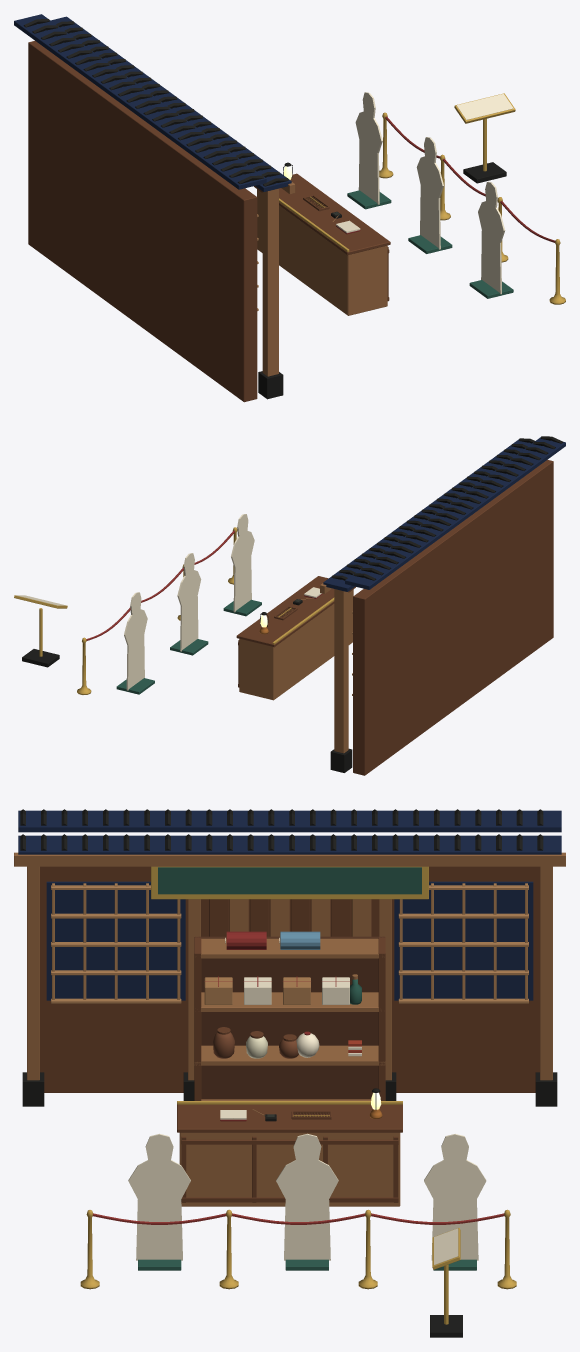
Rendered from S2_shop.glb.
3 views of the same model, one above another, from view 1: azimuth 30°, elevation 25°; view 2: azimuth 150°, elevation 25°; view 3: azimuth 270°, elevation 25° (orthographic). The views are drawn at different scales.
Parts seen in each view (by area): view 1: S2_1_static, INT_counter, SIGN_customer_02, SIGN_customer_01, SIGN_customer_03, S2_9_static, S2_8_static, S2_10_static, SIGN_label_shop; view 2: S2_1_static, INT_counter, SIGN_customer_02, SIGN_customer_01, SIGN_customer_03, S2_8_static, S2_9_static, S2_10_static; view 3: S2_1_static, Shop_three_tier_shelf, INT_counter, SIGN_shopName, S2_4_static, SIGN_customer_02, SIGN_customer_01, SIGN_customer_03, S2_9_static, S2_8_static, S2_10_static, SIGN_label_shop.
Boxes of the visible parts, <box> form: S2_1_static: <box>14,14,295,402</box>; INT_counter: <box>254,173,390,315</box>; SIGN_customer_02: <box>416,137,443,249</box>; SIGN_customer_01: <box>478,181,505,294</box>; SIGN_customer_03: <box>355,92,382,204</box>; S2_9_static: <box>379,112,565,304</box>; S2_8_static: <box>347,190,513,298</box>; S2_10_static: <box>454,93,515,183</box>; SIGN_label_shop: <box>456,94,513,119</box>; S2_1_static: <box>320,436,565,775</box>; INT_counter: <box>236,576,355,700</box>; SIGN_customer_02: <box>177,553,201,651</box>; SIGN_customer_01: <box>231,514,254,612</box>; SIGN_customer_03: <box>124,592,147,690</box>; S2_8_static: <box>116,599,261,694</box>; S2_9_static: <box>77,527,237,694</box>; S2_10_static: <box>14,595,67,667</box>; S2_1_static: <box>14,809,565,1106</box>; Shop_three_tier_shelf: <box>194,936,385,1100</box>; INT_counter: <box>177,1101,402,1206</box>; SIGN_shopName: <box>158,867,421,894</box>; S2_4_static: <box>204,931,361,1058</box>; SIGN_customer_02: <box>276,1133,338,1260</box>; SIGN_customer_01: <box>128,1133,190,1260</box>; SIGN_customer_03: <box>424,1134,486,1260</box>; S2_9_static: <box>80,1209,516,1289</box>; S2_8_static: <box>138,1259,476,1270</box>; S2_10_static: <box>430,1228,462,1337</box>; SIGN_label_shop: <box>434,1228,458,1264</box>.
Size of the model in its own units: 7.2 by 3.48 by 6.35.
